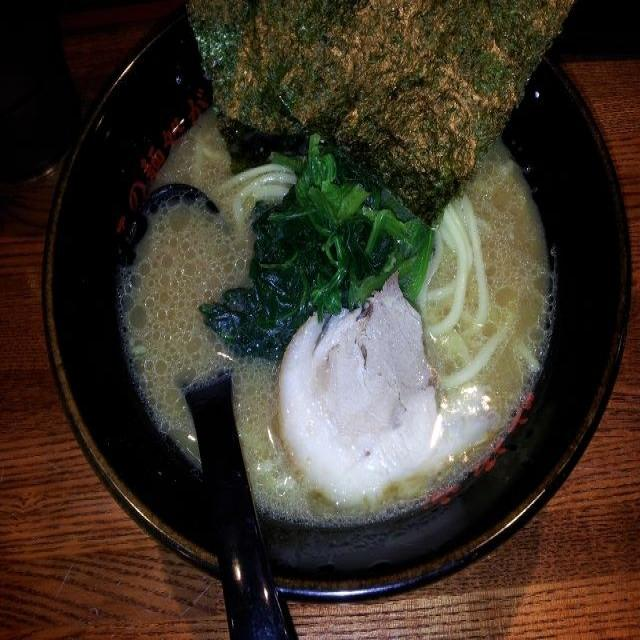面条主食: (44, 0, 628, 589)
